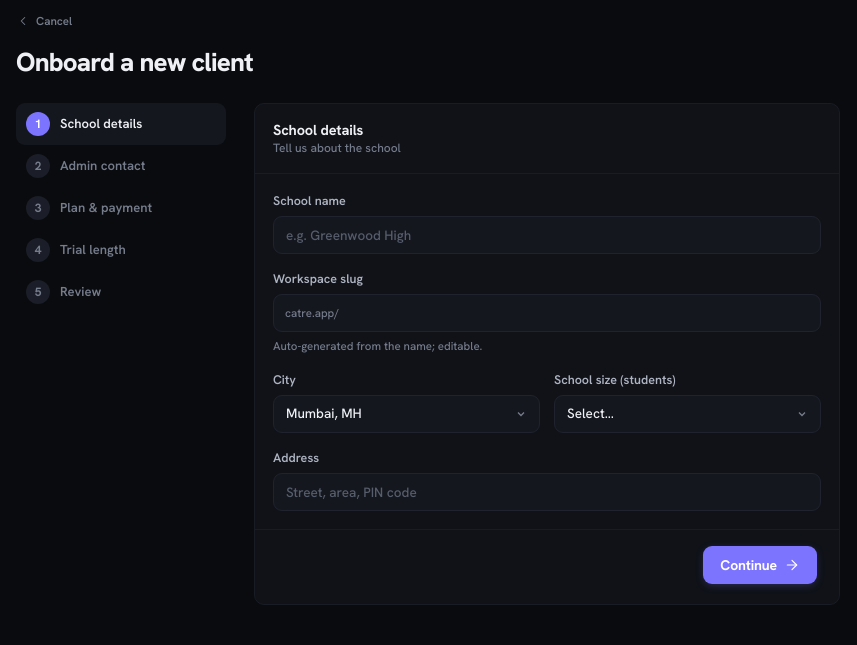
Test case: OnboardWizard › blocks Continue on step 0 until a school name is entered
What coordinates should you click on to do the following:
click the button "Continue"
I would click on:
 (760, 565)
Its box is x1=703 y1=546 x2=817 y2=584.
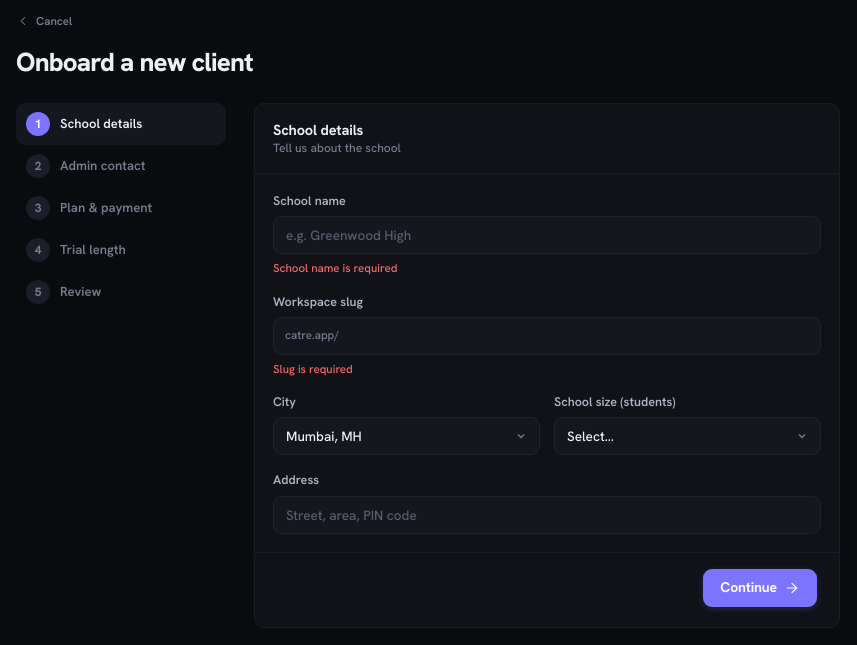
Expected: the text "School name is required" is shown, x1=273 y1=260 x2=397 y2=275
